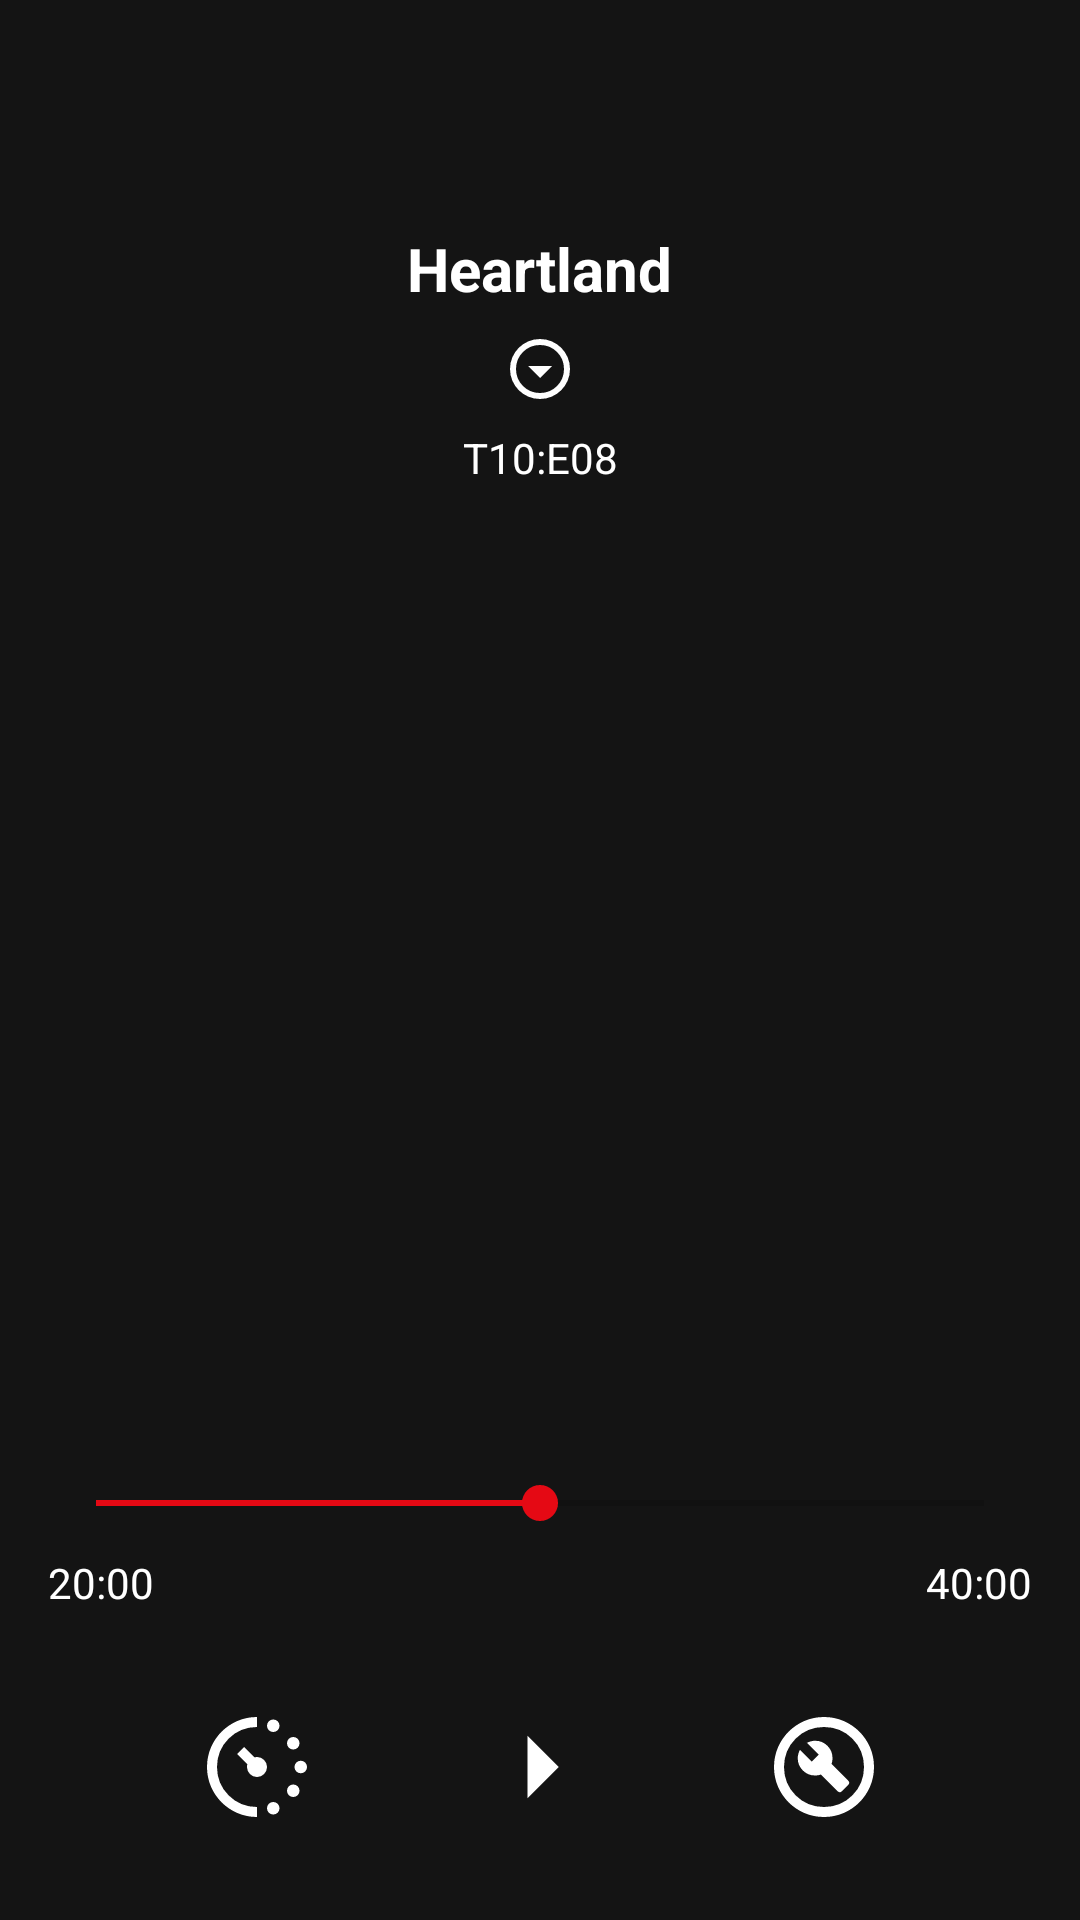

Named icons in this screenshot (1080×1920) and their bounding boxes, {"left": x1, "top": y1, "right": x2, "bottom": y2}:
arrow right: {"left": 527, "top": 1736, "right": 559, "bottom": 1798}
avg pace: {"left": 207, "top": 1717, "right": 307, "bottom": 1817}
build circle: {"left": 774, "top": 1717, "right": 874, "bottom": 1817}
